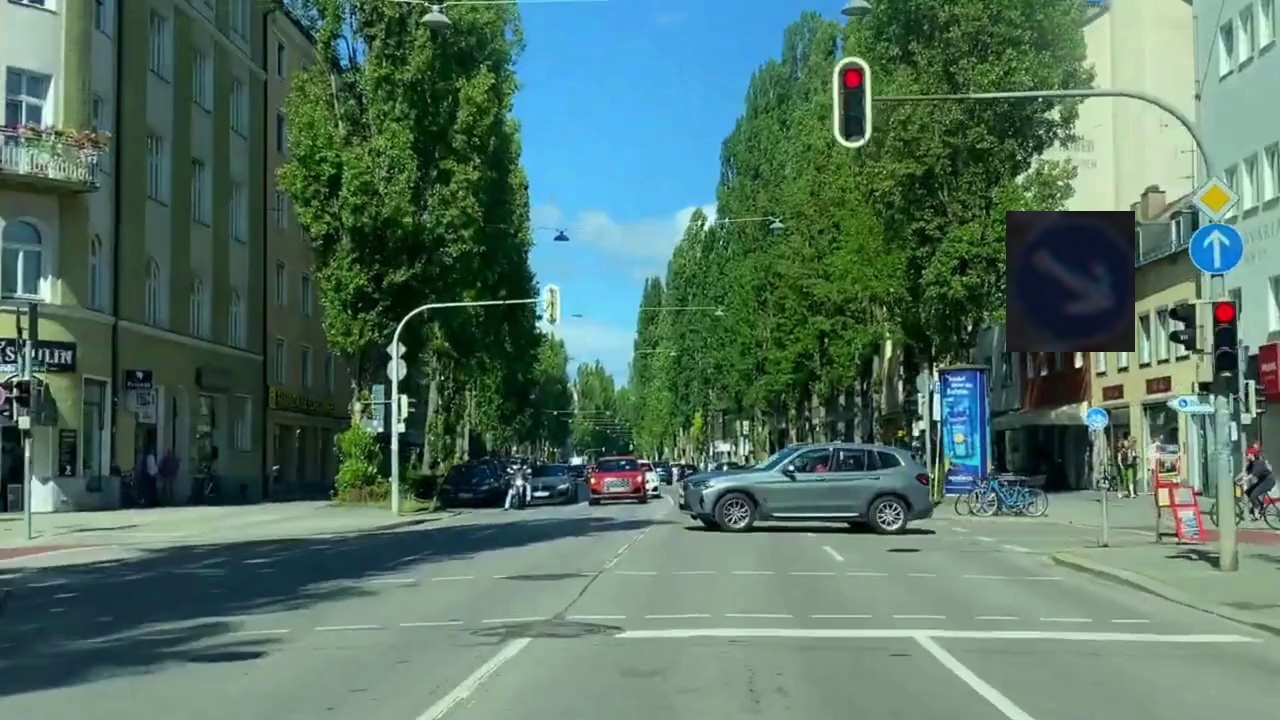Keep right: (1006, 211, 1135, 352)
